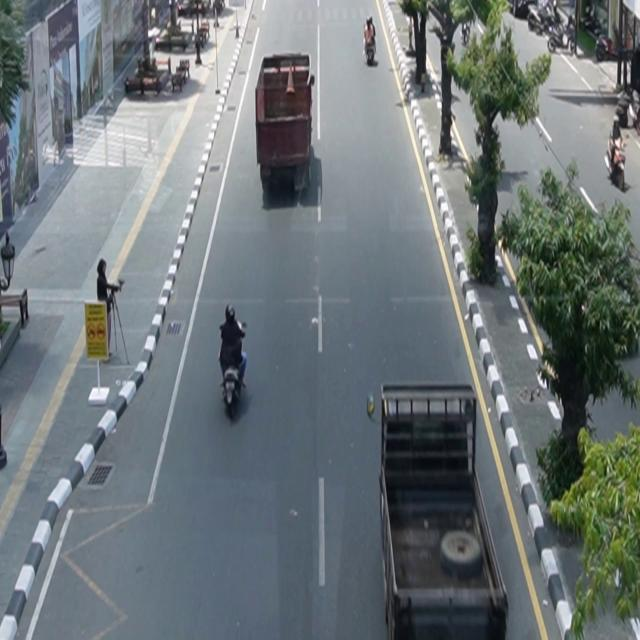truck: (256, 52, 315, 192)
